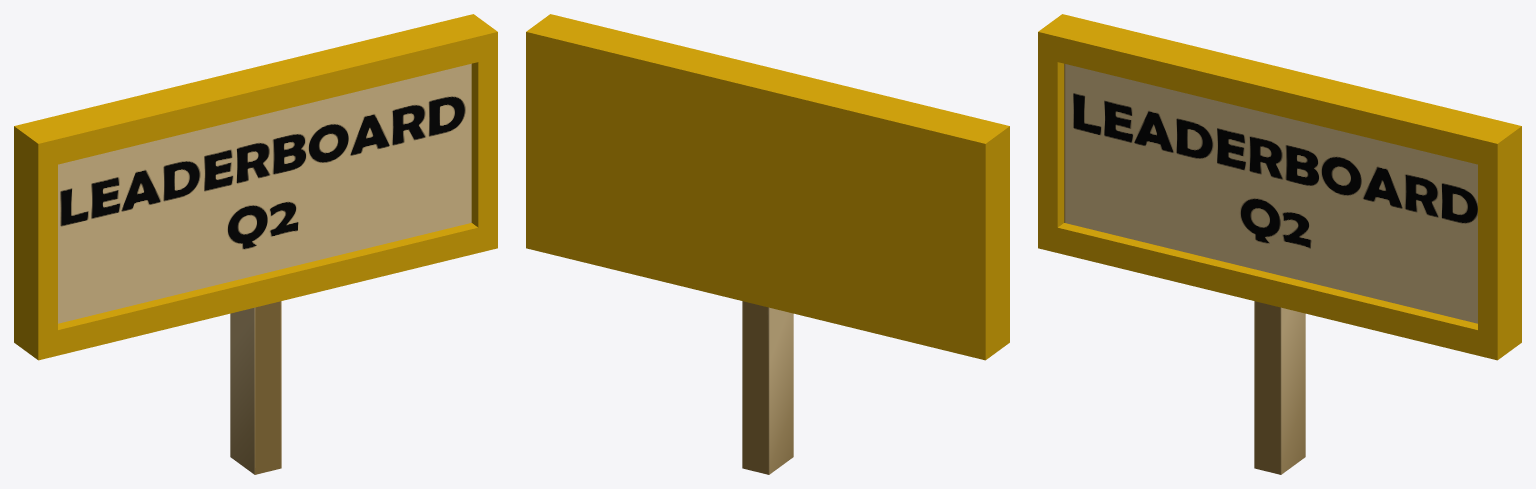
The model's file is signPost_lQ2.fbx.
3 renders of one model, left to right at view 1: azimuth 30°, elevation 25°; view 2: azimuth 150°, elevation 25°; view 3: azimuth 330°, elevation 25°, orthographic.
Parts seen in each view (by area): view 1: pCube3; view 2: pCube3; view 3: pCube3.
Part boxes in pixels (left/top/right/bottom): pCube3: left=14, top=14, right=497, bottom=474; pCube3: left=526, top=14, right=1009, bottom=474; pCube3: left=1038, top=14, right=1521, bottom=474.
Bounding box in the file's own units: 6.34 × 5.06 × 0.5821.
2 materials, 1 textured.
